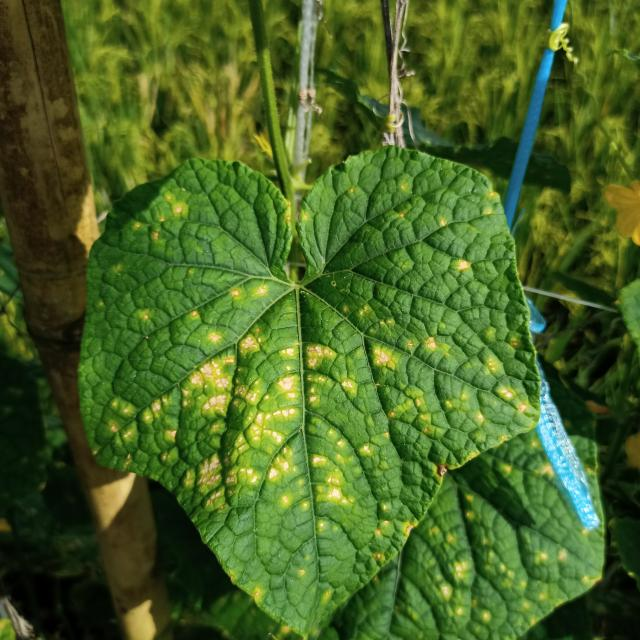disease_cucumber: (101, 182, 527, 580)
